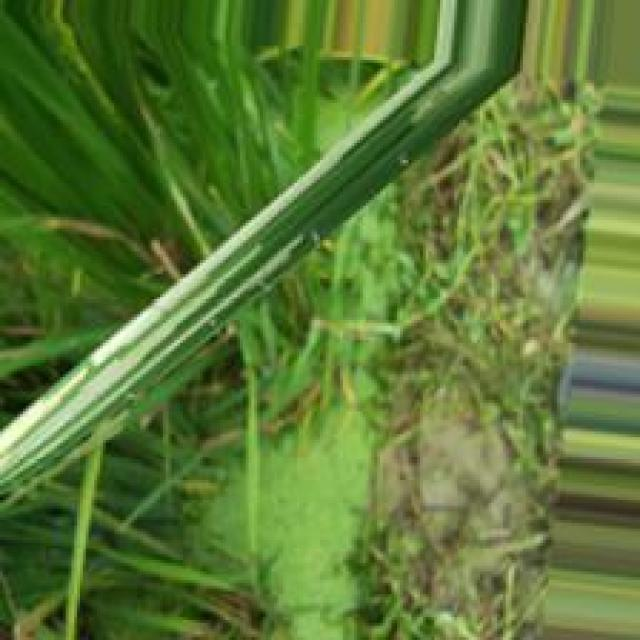Rice_Hispa: (0, 3, 463, 478)
